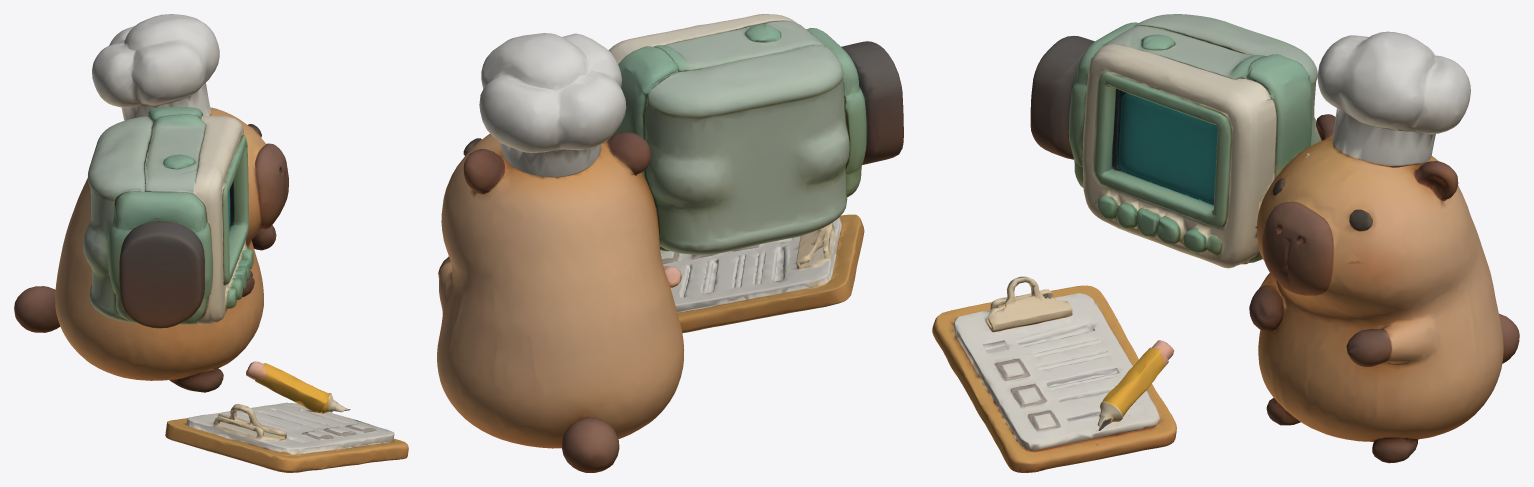
Rendered from discovery-smarttester.glb.
3 renders of one model, left to right at view 1: azimuth 30°, elevation 25°; view 2: azimuth 150°, elevation 25°; view 3: azimuth 270°, elevation 25°, orthographic. The views are drawn at different scales.
Parts seen in each view (by area): view 1: tripo_node_50dd2a3b-681a-492b-8d8c-9f60b5834513; view 2: tripo_node_50dd2a3b-681a-492b-8d8c-9f60b5834513; view 3: tripo_node_50dd2a3b-681a-492b-8d8c-9f60b5834513.
Part boxes in pixels (x1,y1,x2,y2): tripo_node_50dd2a3b-681a-492b-8d8c-9f60b5834513: (14,14,408,472); tripo_node_50dd2a3b-681a-492b-8d8c-9f60b5834513: (437,14,903,472); tripo_node_50dd2a3b-681a-492b-8d8c-9f60b5834513: (932,14,1519,472).
Bounding box in the file's own units: 0.6258 × 0.7354 × 1.
Materials: 1 (1 with a texture image).
